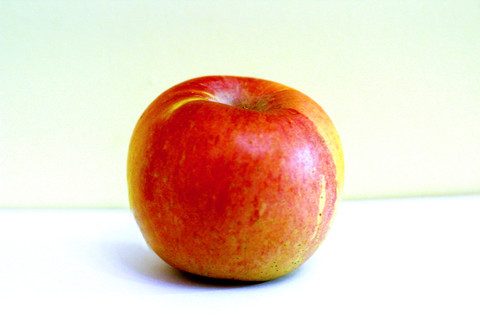apple: (124, 74, 344, 284)
